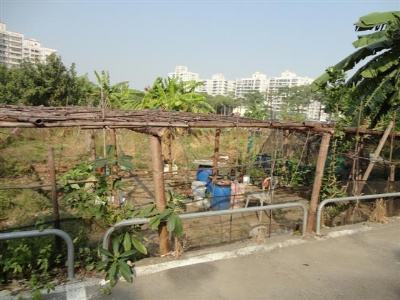bucket: (212, 178, 233, 216), (190, 179, 207, 203)
